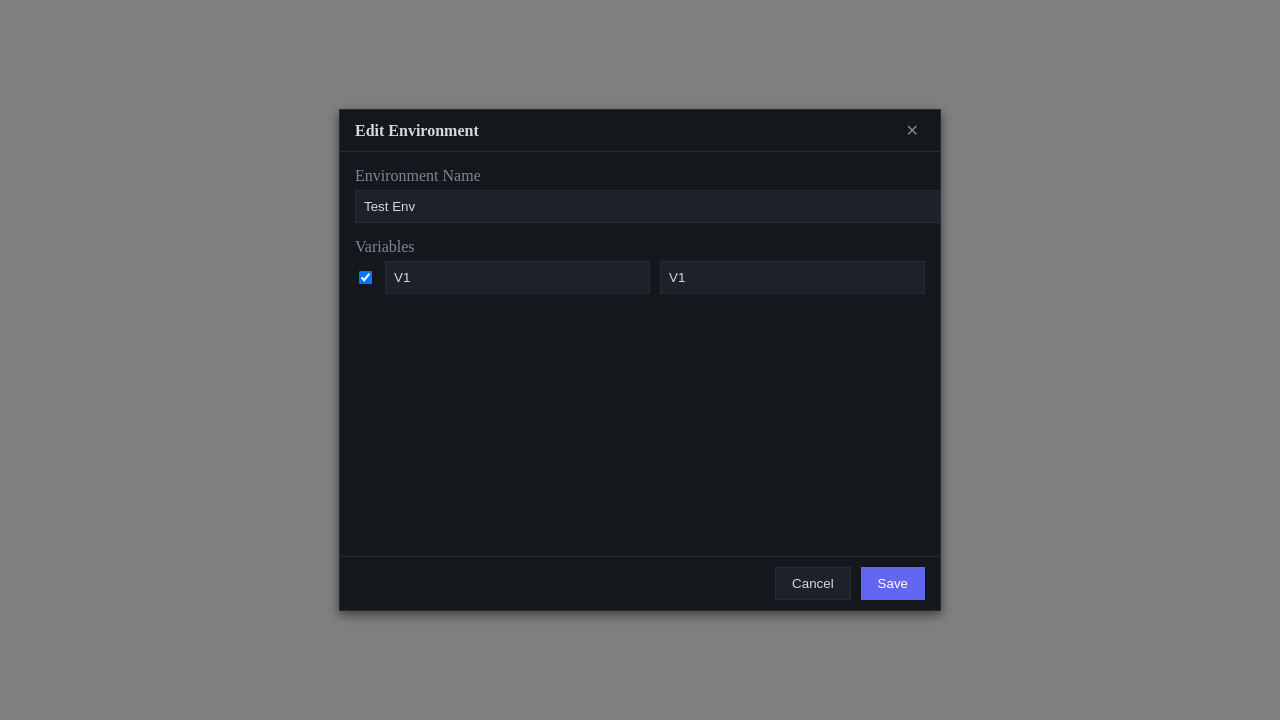
EnvironmentModal › resets to empty row when deleting last remaining variable
# Let's force add a row by editing the existing one.
Step 1. Replace the text in the 3rd field showing "V1" with "V1_mod" → (792, 278), box [660,261,925,294]
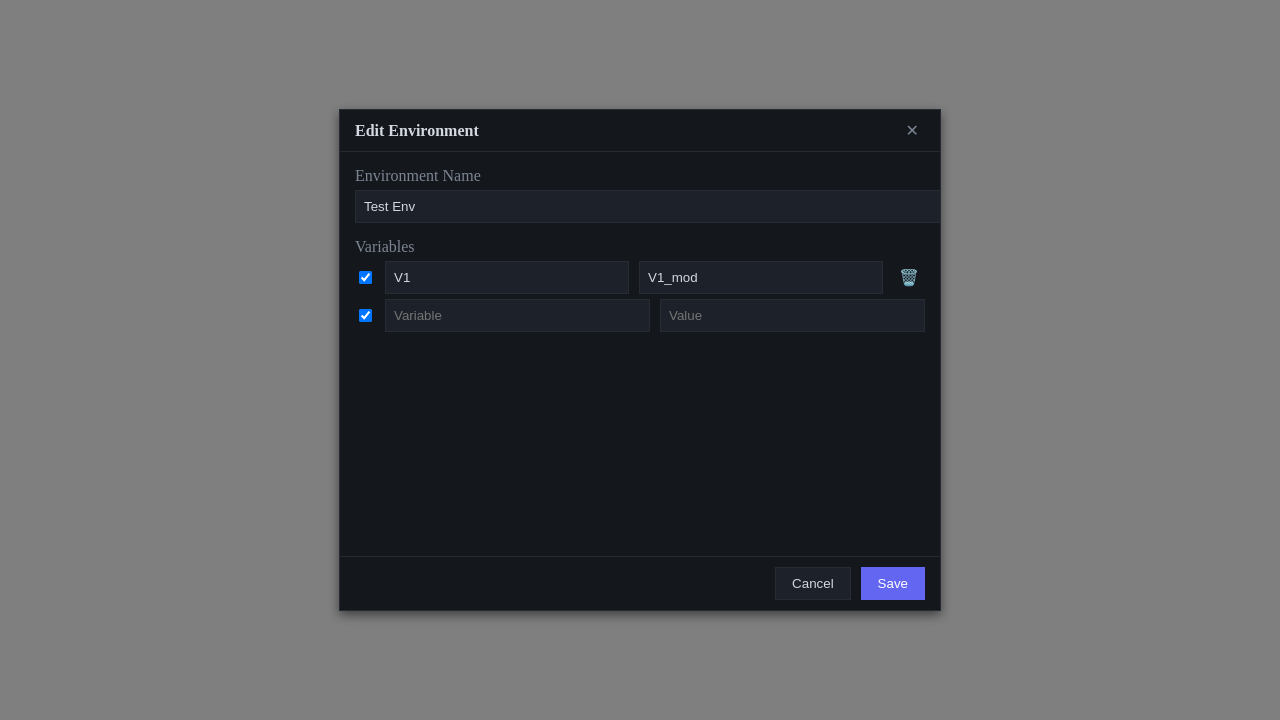
Result: the number of buttons "🗑️" is 1
Step 2. Click the button "🗑️" → (909, 278), box [893,267,925,288]
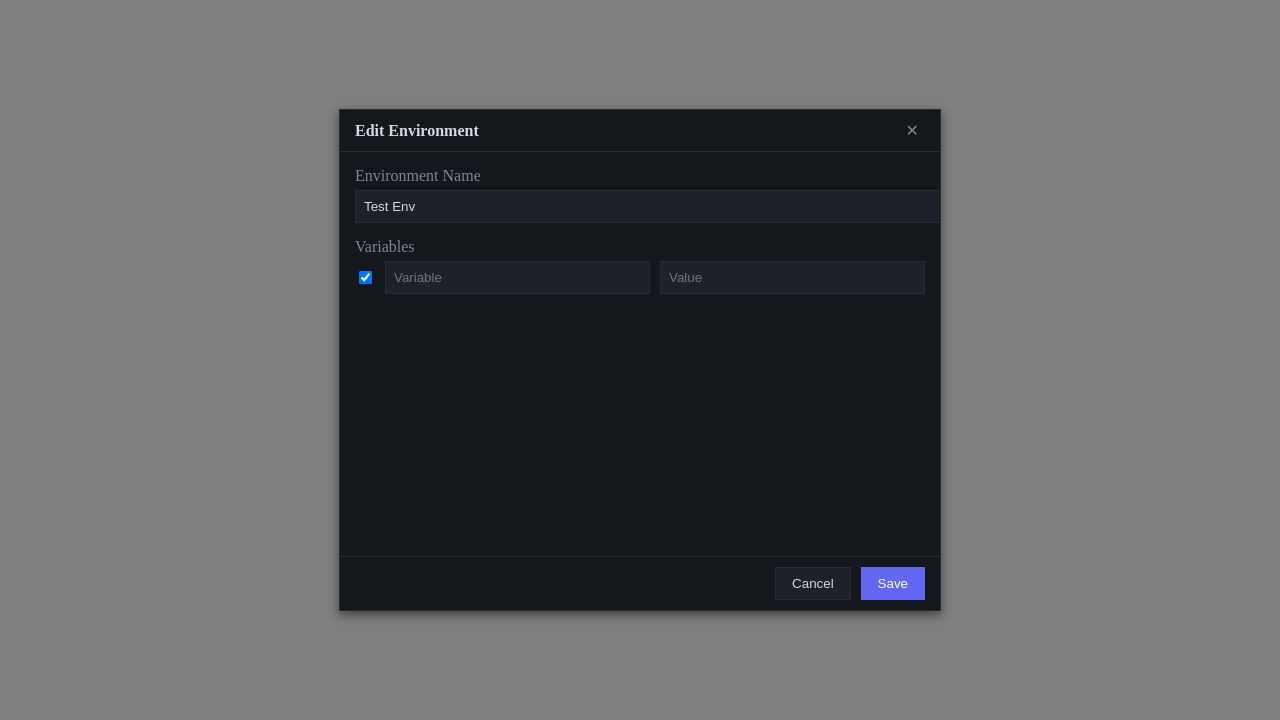
Result: the button "🗑️" is gone
